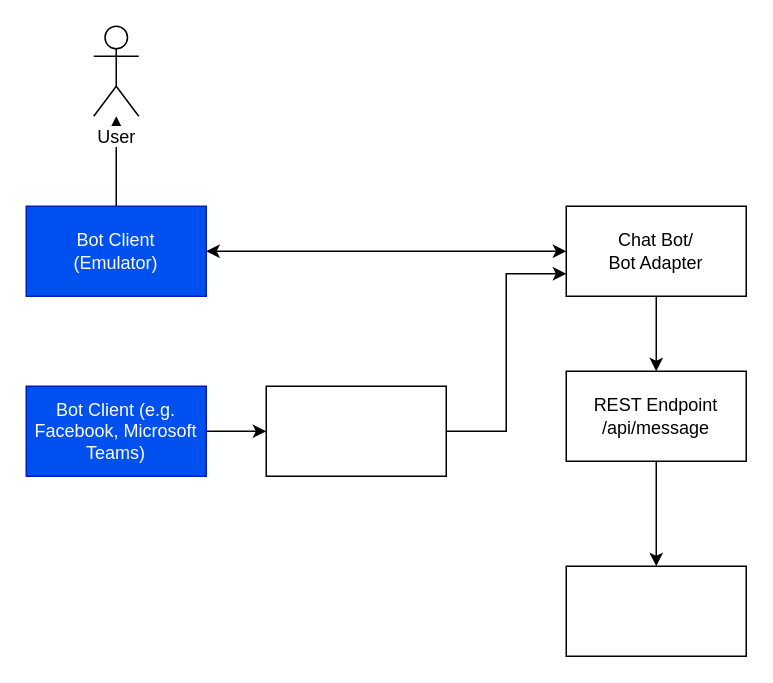
The diagram is 773 pixels wide and 683 high, and some of its shapes have lost their labels. Each missing label, with the box of its shape:
Azure Bot Service: (265, 385, 446, 476)
Bot Logic: (565, 565, 746, 656)
